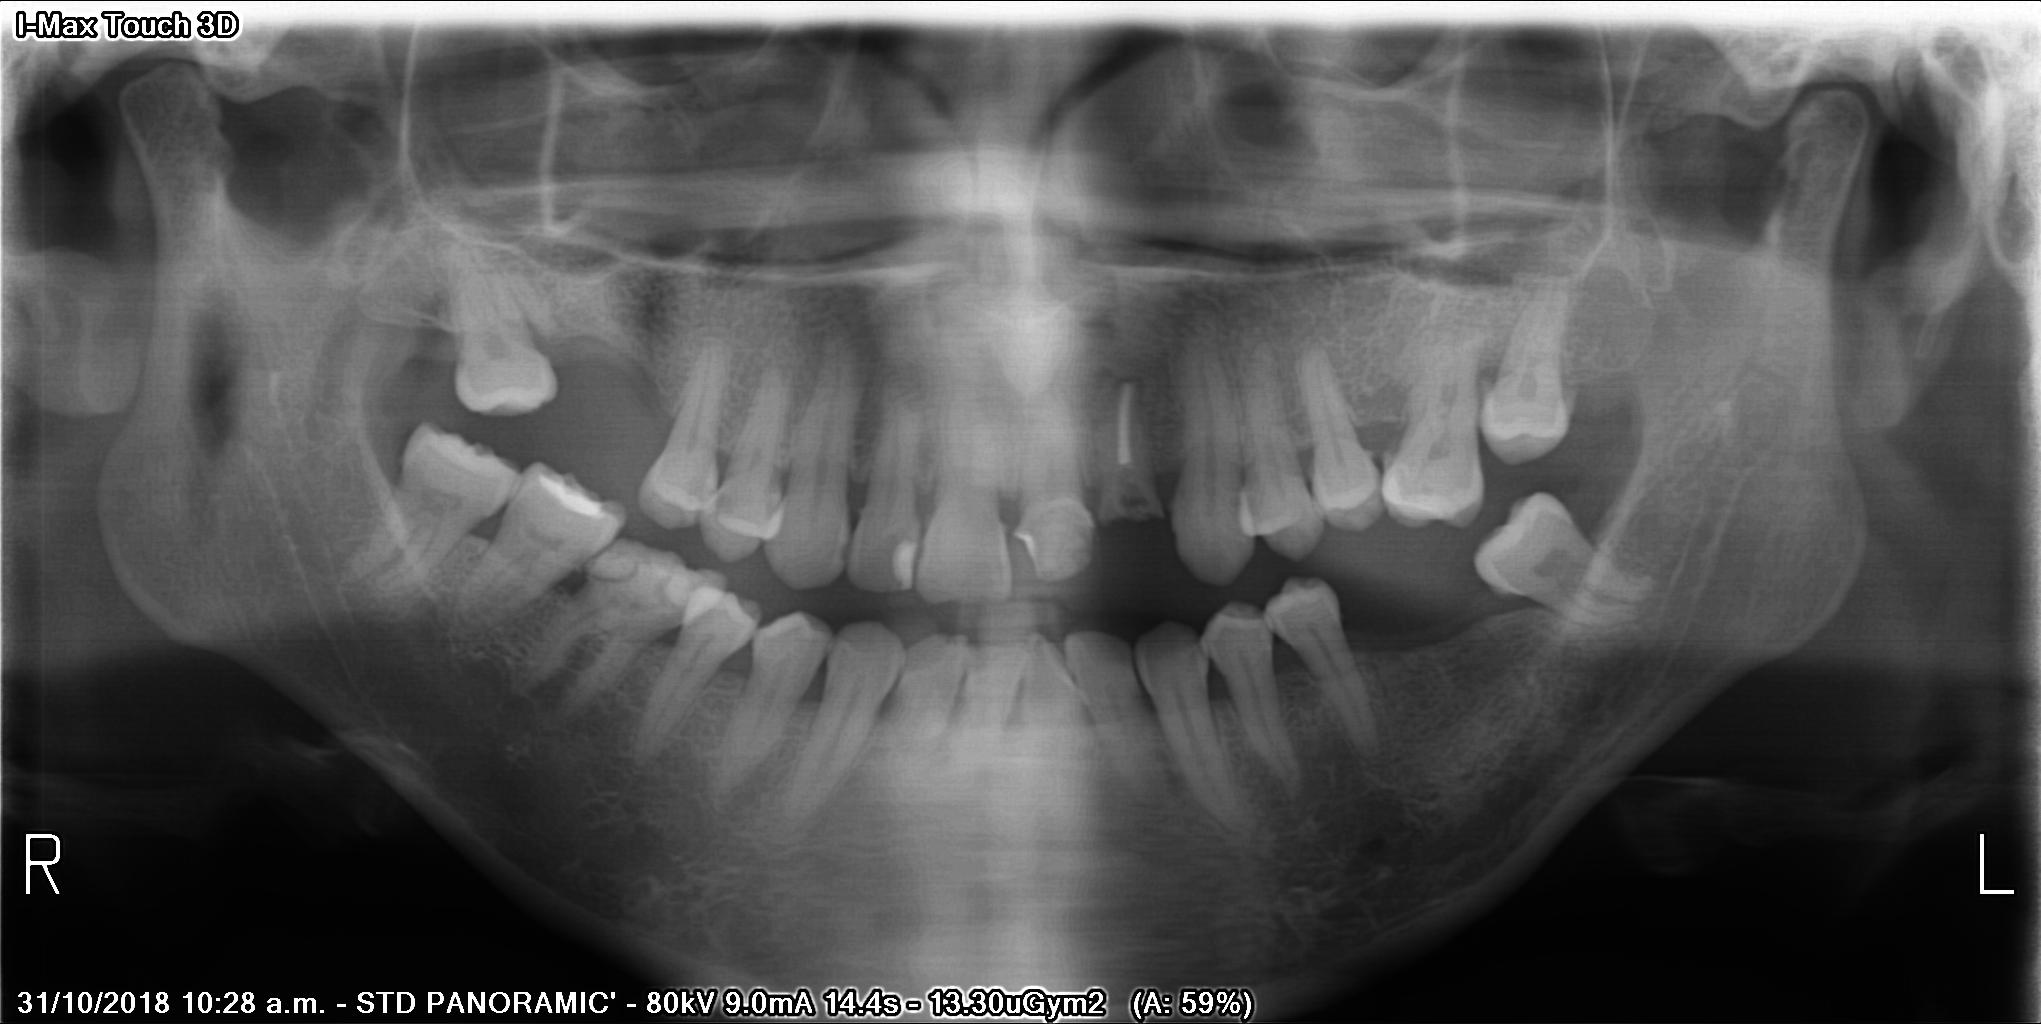Çürük: (525, 465, 614, 530), (716, 487, 790, 554), (679, 568, 733, 633), (1235, 479, 1284, 545), (885, 528, 927, 590), (658, 472, 709, 519)
Çürük Bölgesi: (573, 562, 648, 596), (1012, 533, 1043, 581), (1110, 505, 1161, 532)
